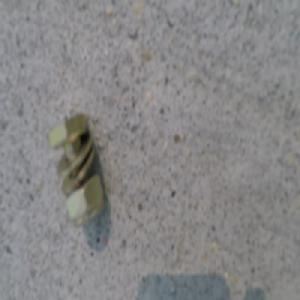BoltNutSet: (47, 111, 104, 223)
